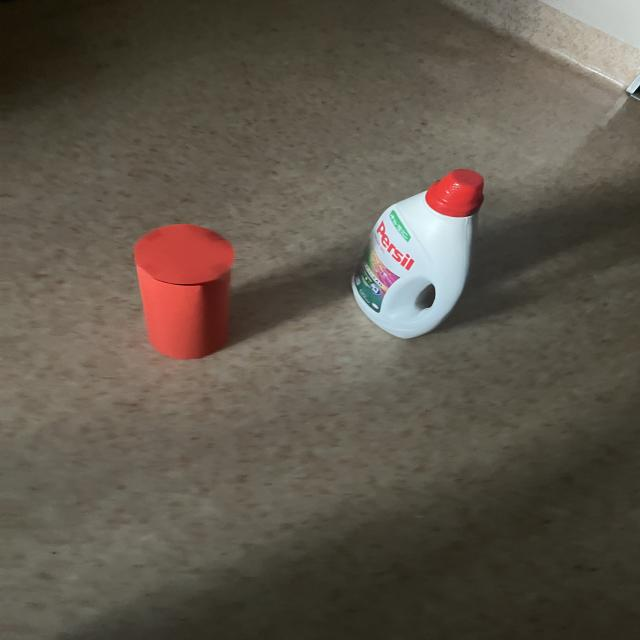przeszkoda: (134, 224, 235, 359)
